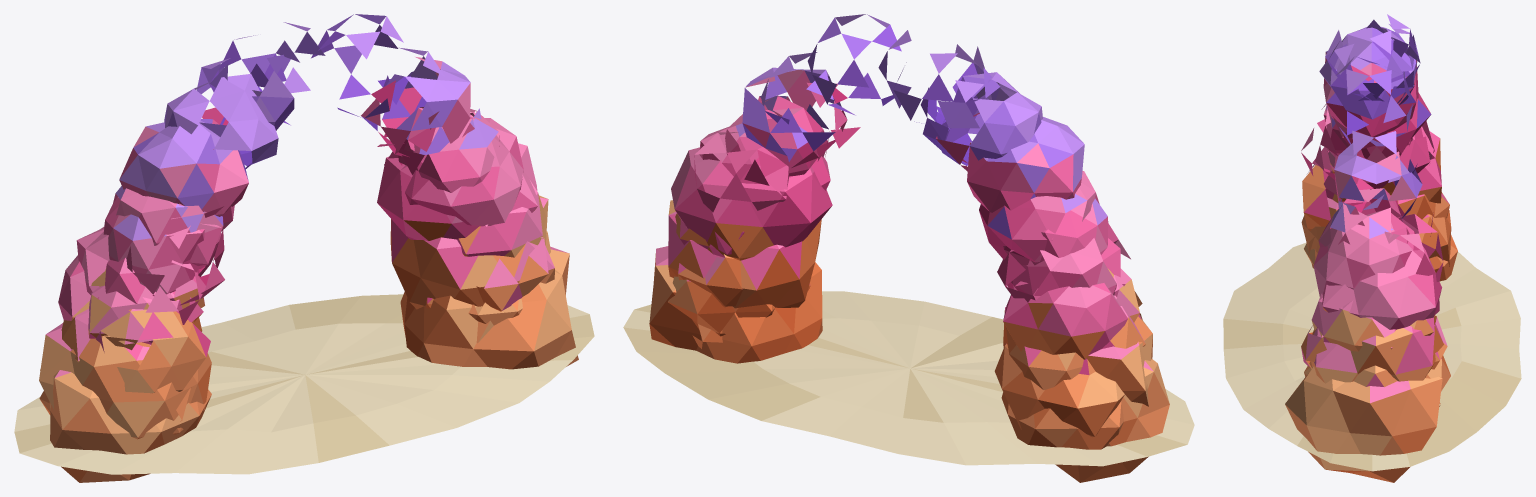
The model's file is landmark-far.glb.
The picture shows the model from 3 angles, left to right: view 1: azimuth 30°, elevation 25°; view 2: azimuth 150°, elevation 25°; view 3: azimuth 270°, elevation 25°; orthographic projection. The views are drawn at different scales.
Parts seen in each view (by area): view 1: coral.001; view 2: coral.001; view 3: coral.001.
Part boxes in pixels (left/top/right/bottom): coral.001: left=14, top=14, right=594, bottom=482; coral.001: left=623, top=14, right=1194, bottom=482; coral.001: left=1223, top=14, right=1521, bottom=482.
Bounding box in the file's own units: 30.86 × 21.2 × 15.89.
Materials: 1 (1 with a texture image).
